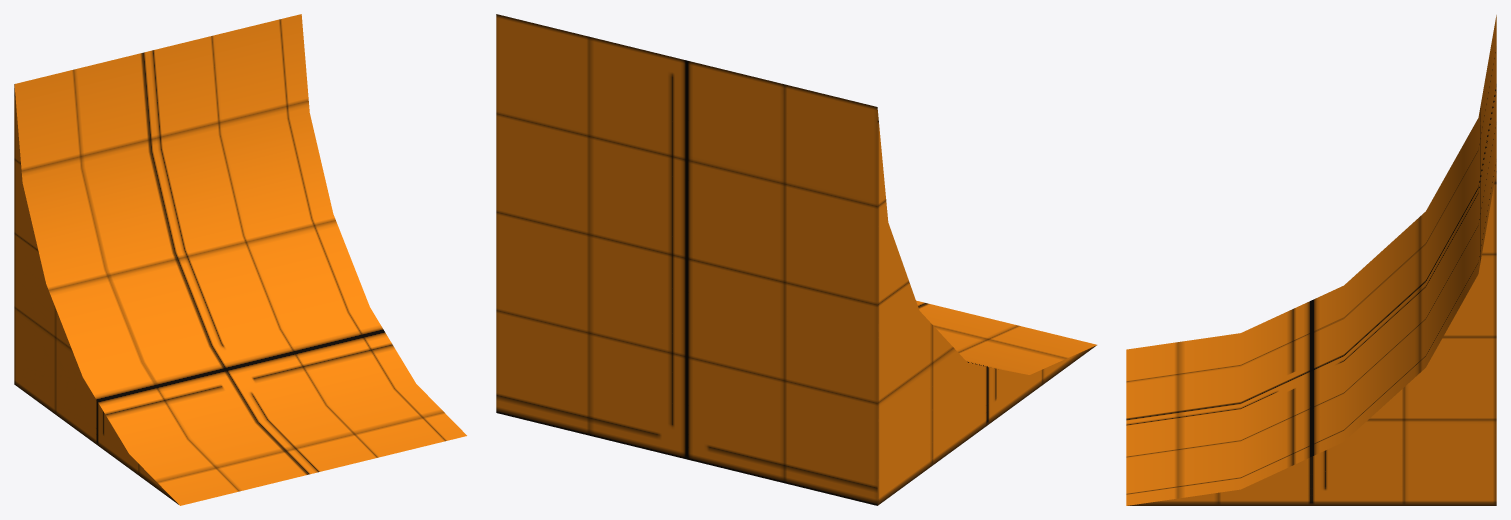
File: halfpipe.fbx
3 views of the same model, side by side, from view 1: azimuth 30°, elevation 25°; view 2: azimuth 150°, elevation 25°; view 3: azimuth 270°, elevation 25° (orthographic). The views are drawn at different scales.
Parts seen in each view (by area): view 1: halfpipe; view 2: halfpipe; view 3: halfpipe.
Boxes of the visible parts, box(x1,y1,x2,y2) form: halfpipe: box(14, 14, 466, 505); halfpipe: box(496, 14, 1096, 505); halfpipe: box(1126, 15, 1496, 505).
Bounding box in the file's own units: 200 × 200 × 200.
Materials: 1 (1 with a texture image).
